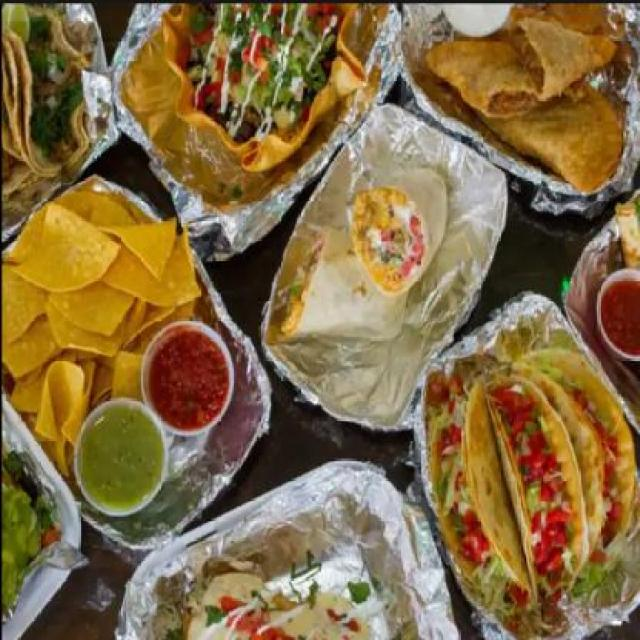breakfast burrito: (267, 172, 458, 354)
chicken quesadilla: (424, 5, 624, 182), (170, 544, 382, 639), (602, 192, 640, 266)
nachos: (2, 199, 184, 418)
tacos: (425, 368, 638, 606)
